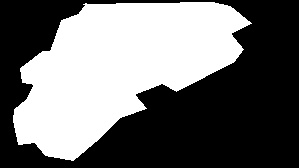Fire: (18, 28, 158, 139)
